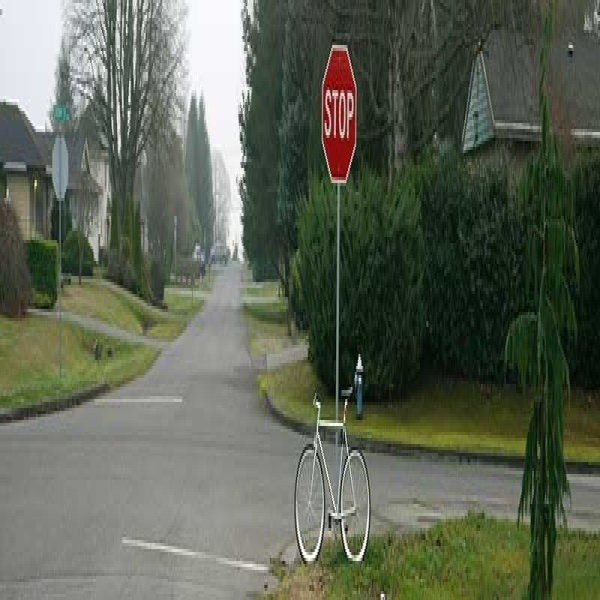stop: (111, 116, 191, 257)
